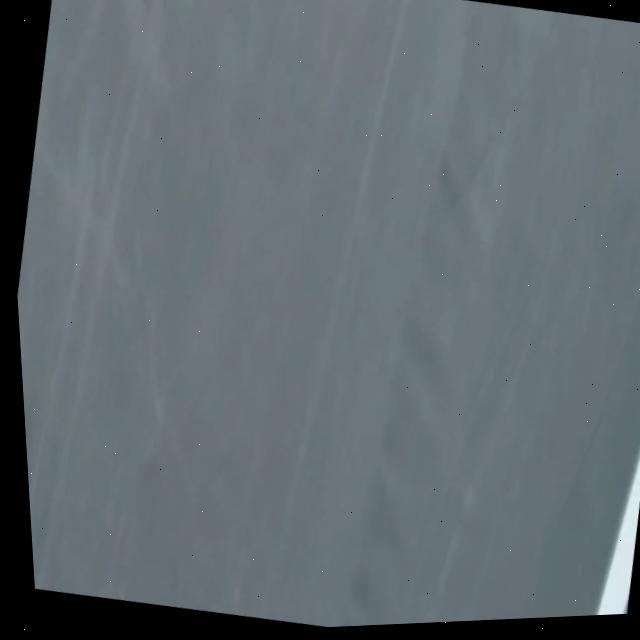left: (596, 448, 640, 615)
